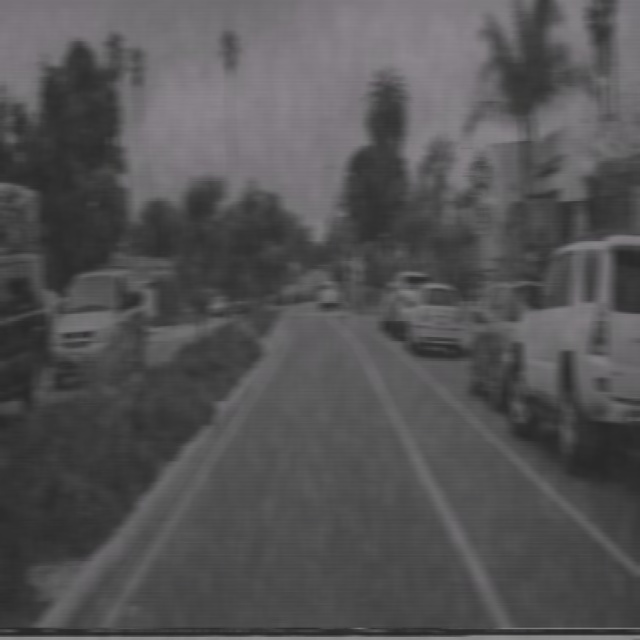roundabout: (466, 143, 496, 201)
